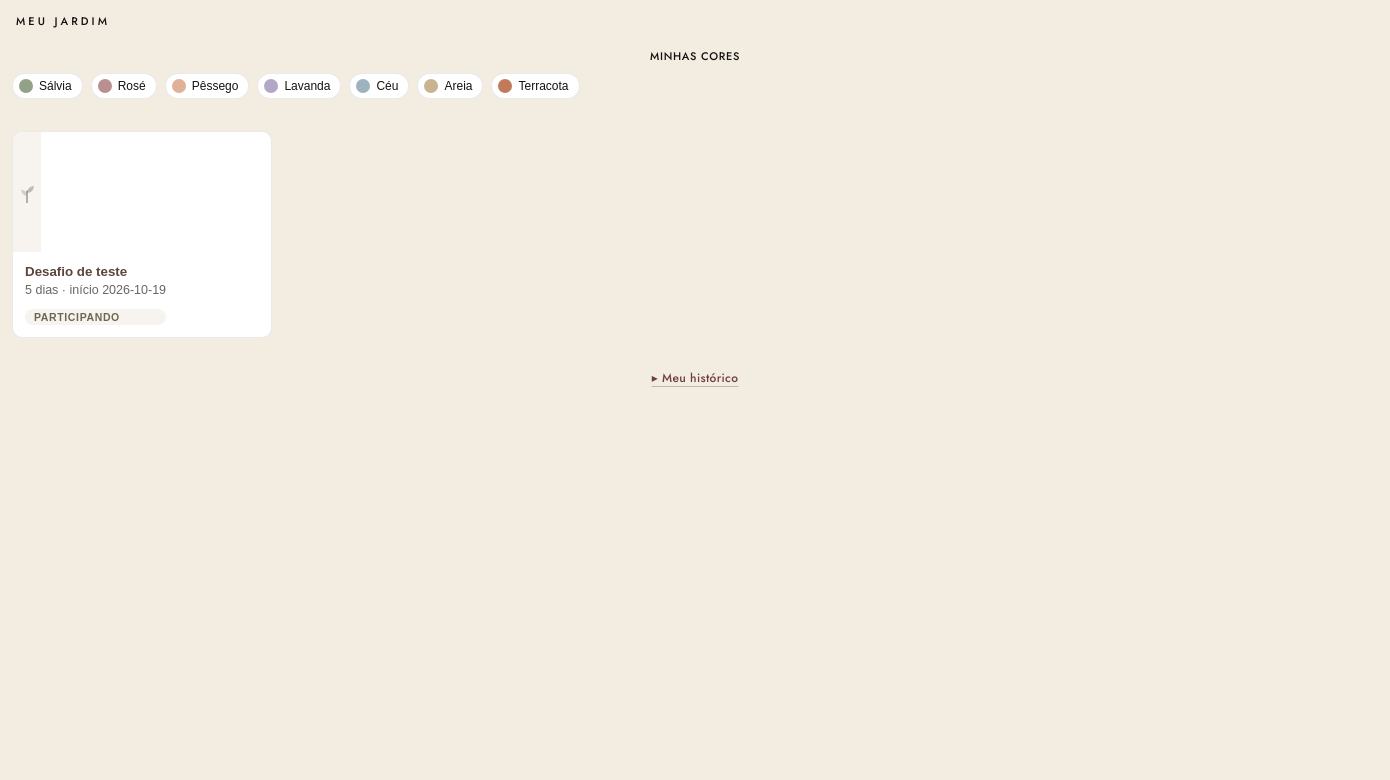
Scenario: GardenMemberView — Item 4: roda de progresso (dados ao vivo) › mostra o resumo da jornada acumulada (Camada 2) somando conclusões de desafios diferentes
What coordinates should you click on to do the following:
click the text "Desafio de teste"
I would click on:
 (76, 272)
Its box is 25,264 -> 127,279.
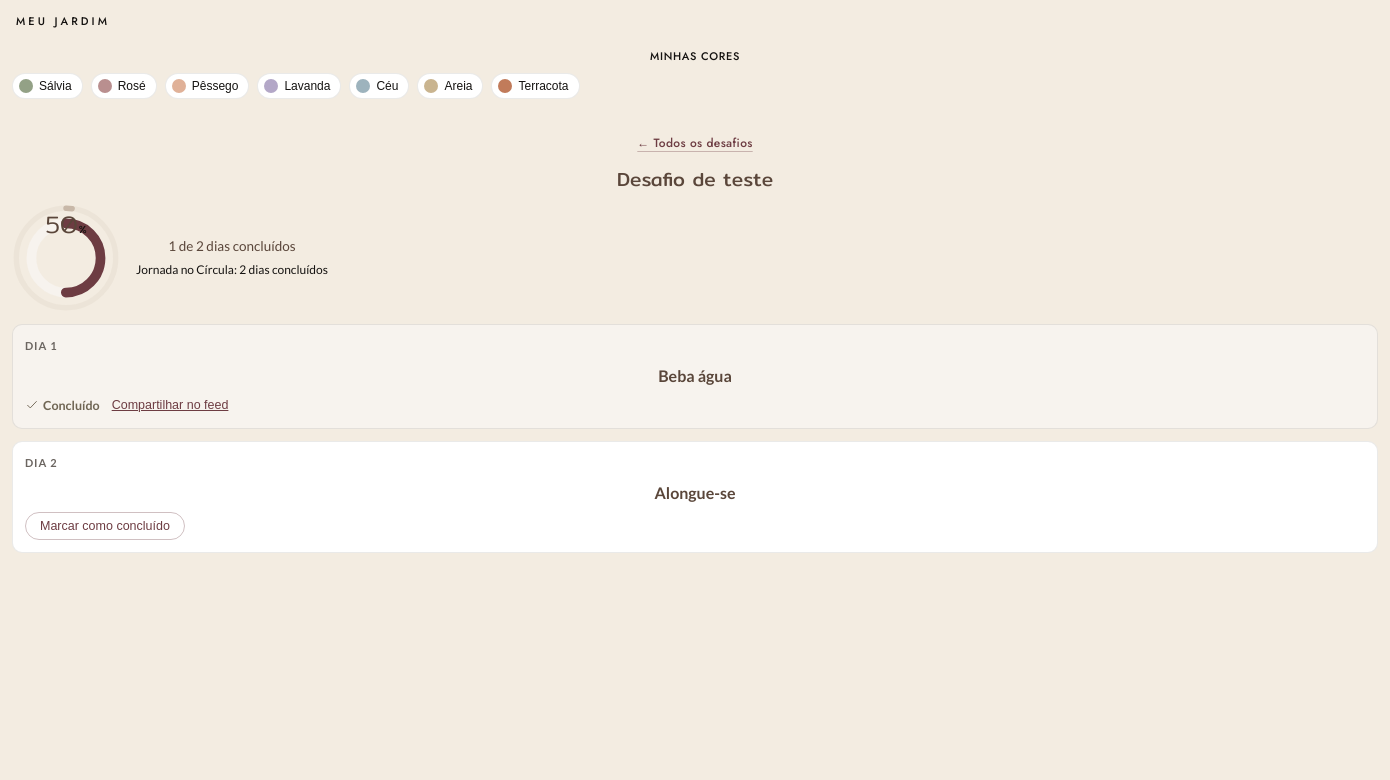
Expected: the text "1 de 2 dias concluídos" is shown, 168,238 -> 296,254
Expected: the text "Jornada no Círcula: 2 dias concluídos" is shown, 136,260 -> 328,280
